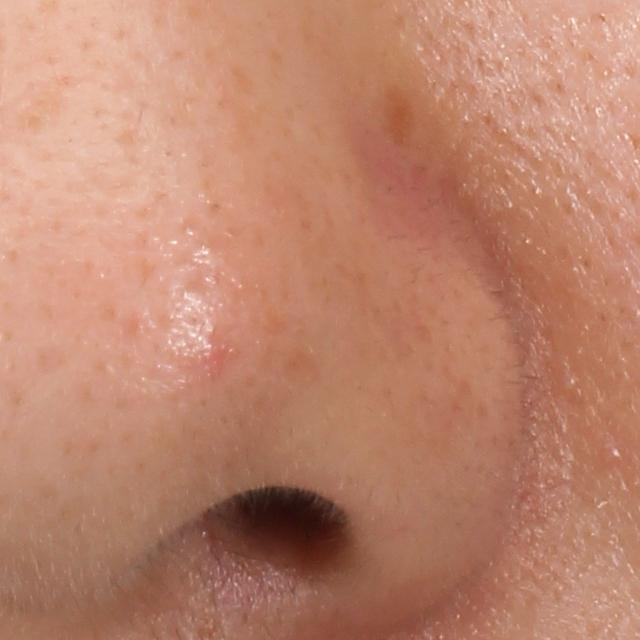comedo: (599, 440, 627, 469)
melasma: (378, 72, 417, 149)
